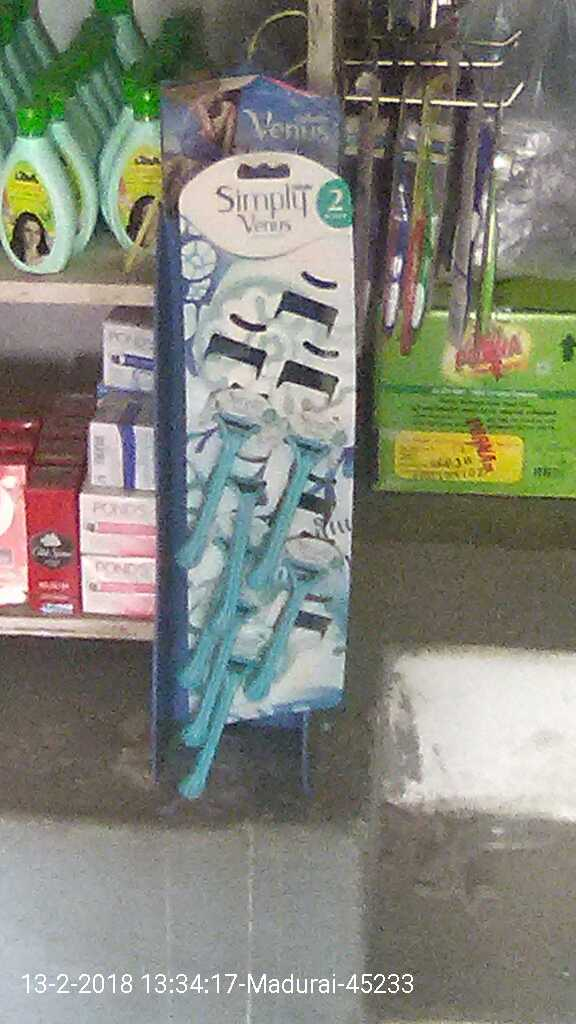reject: (156, 143, 305, 264)
